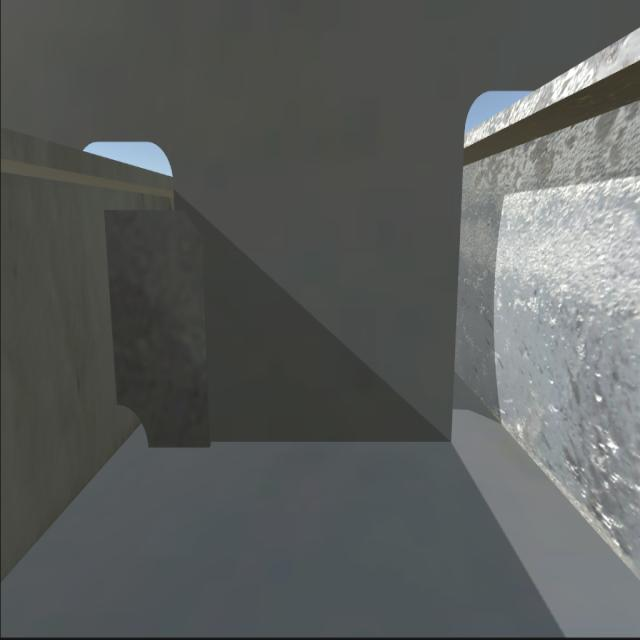fillet_hole: (118, 411, 149, 457)
fillet_yong_jeop_jang: (156, 439, 453, 447)
longi_yong_jeop_jang: (108, 213, 125, 407)
plate_CP03: (109, 204, 200, 452)
